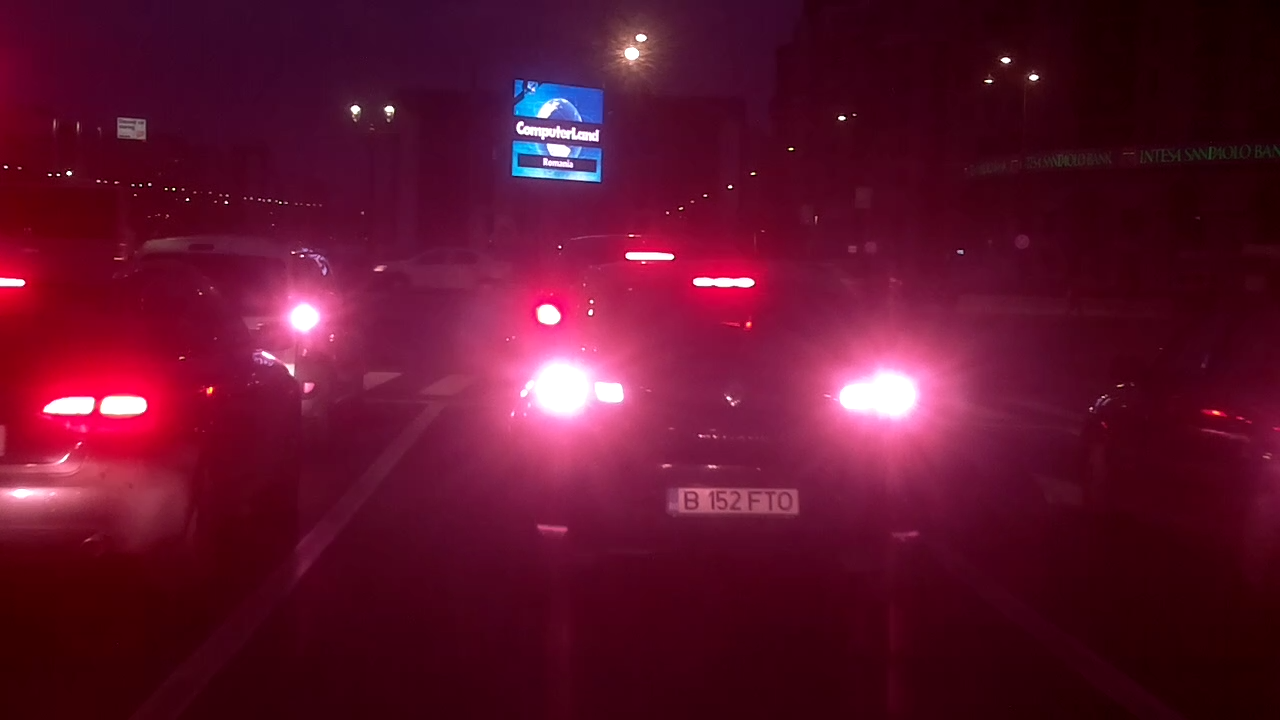license-plate: (661, 483, 806, 519)
